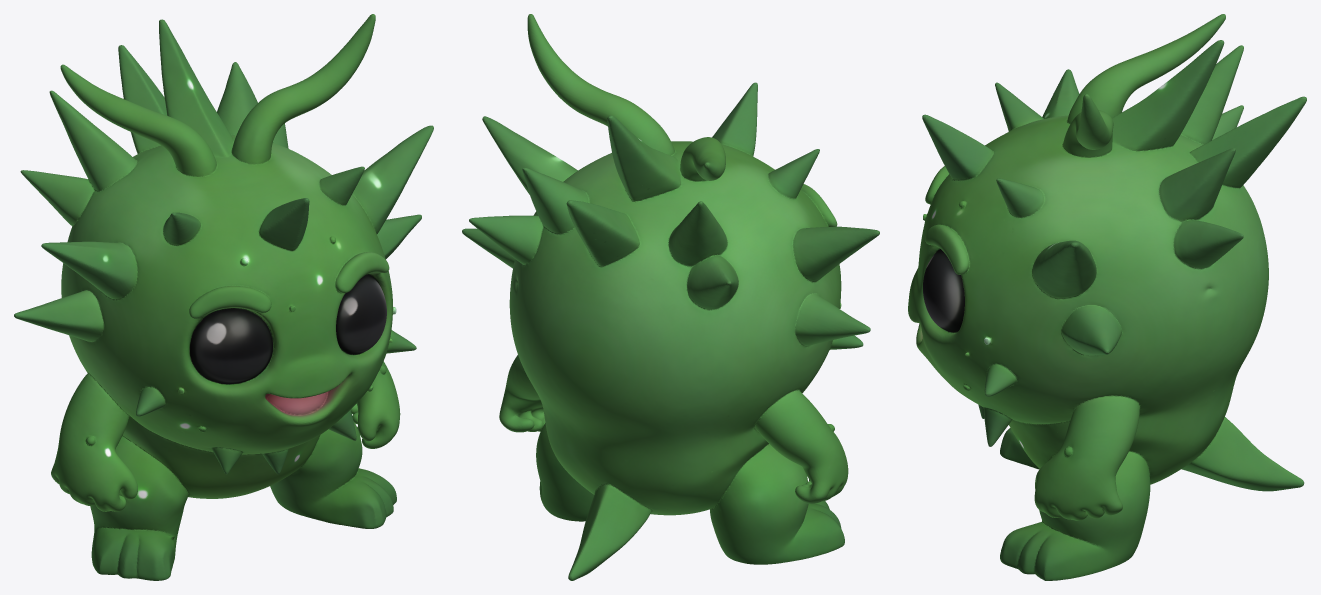
File: MON_VINE_01.glb
3 renders of one model, left to right at view 1: azimuth 30°, elevation 25°; view 2: azimuth 150°, elevation 25°; view 3: azimuth 270°, elevation 25°, orthographic. The views are drawn at different scales.
Visible parts, largest first — view 1: model; view 2: model; view 3: model.
Part boxes in pixels (bbox=[...]): model: bbox=[14, 14, 433, 580]; model: bbox=[462, 14, 879, 580]; model: bbox=[908, 14, 1306, 580].
Size of the model in its own units: 1.54 by 1.72 by 1.27.
1 material, 1 textured.
